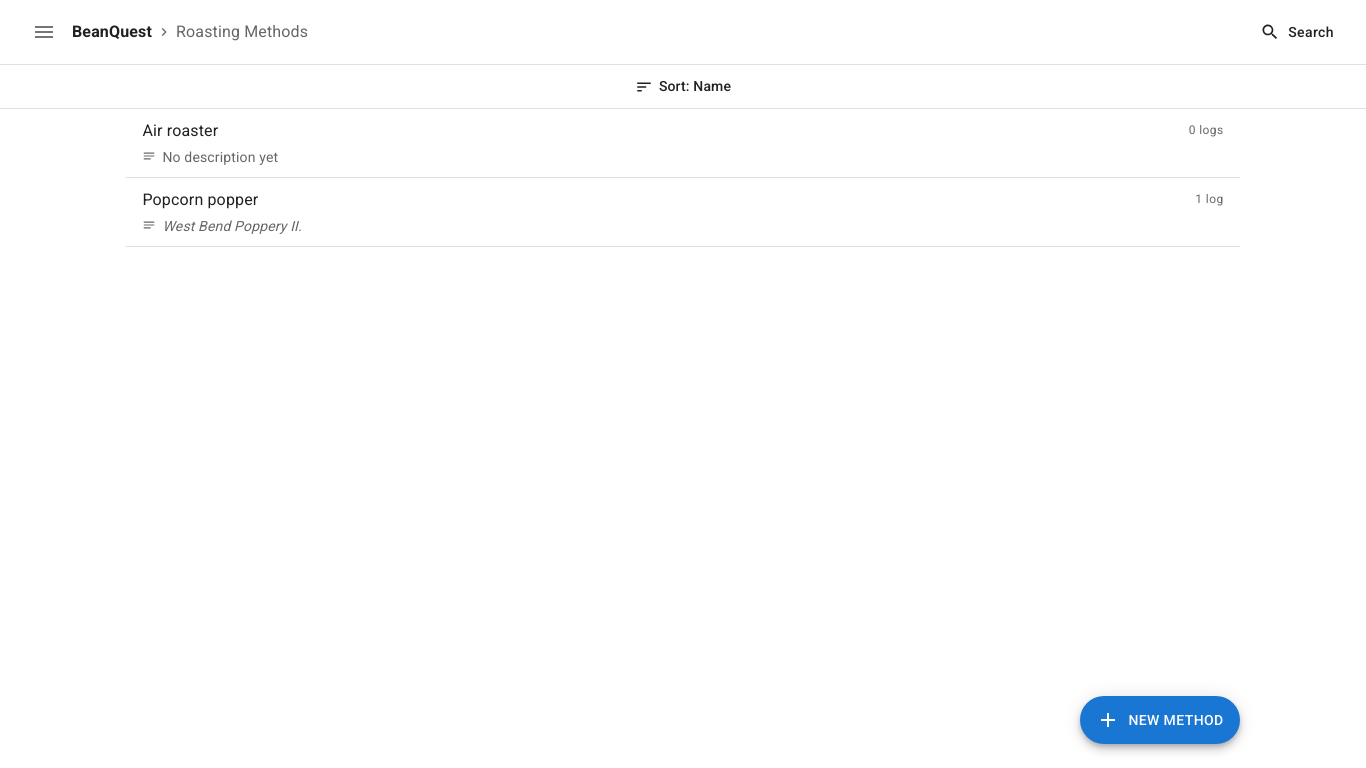
Test case: RoastingMethodsPage › creates a method via the form and shows it in the list
Expected: the text "Popcorn popper" is shown, [142,188,258,212]
Click the button with aria-label "New roasting method". click: (1160, 720)
box: [1080,696,1240,744]
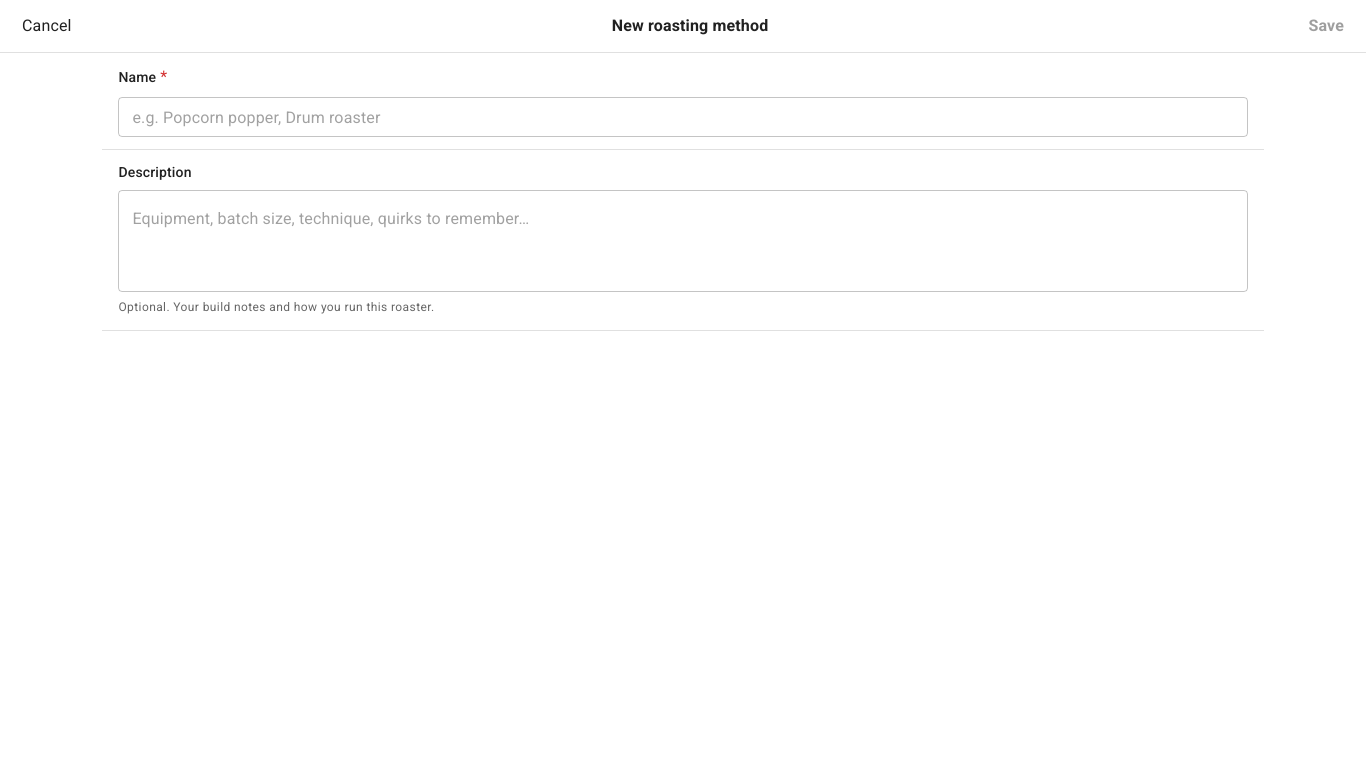
Type "Whirley-Pop" into the field with placeholder "e.g. Popcorn popper, Drum roaster". click: (683, 117)
box: [118,97,1248,137]
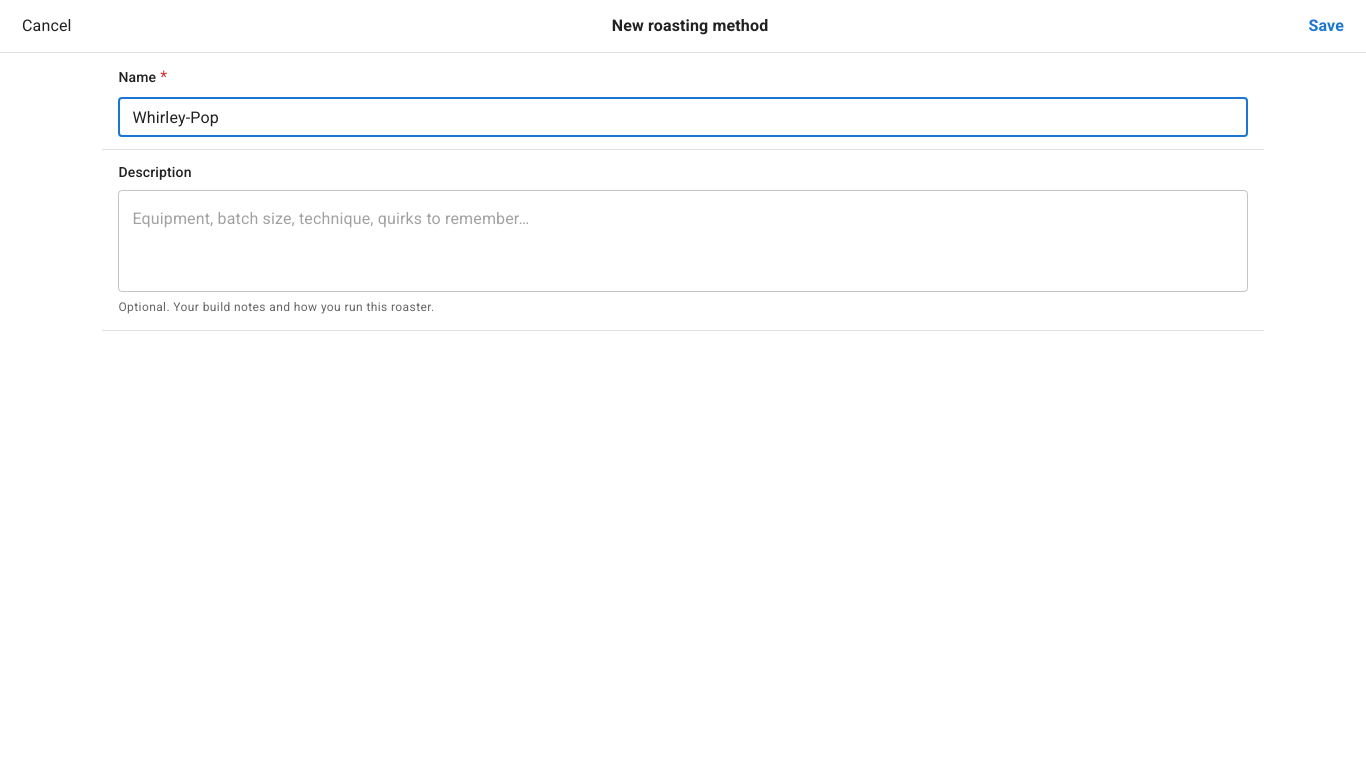
Click the button "Save". click: (1326, 26)
box: [1302,13,1350,39]
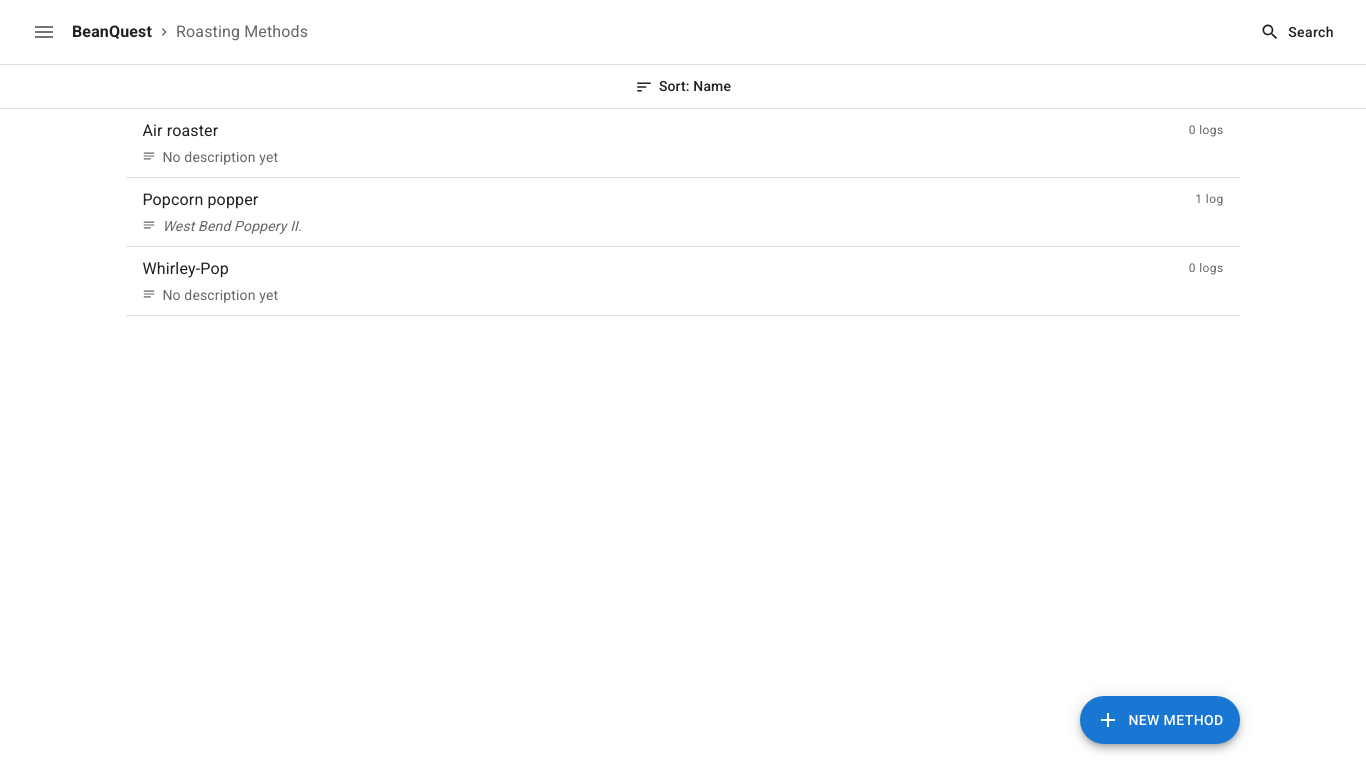
Result: the text "Whirley-Pop" is shown at [142,257,229,281]
